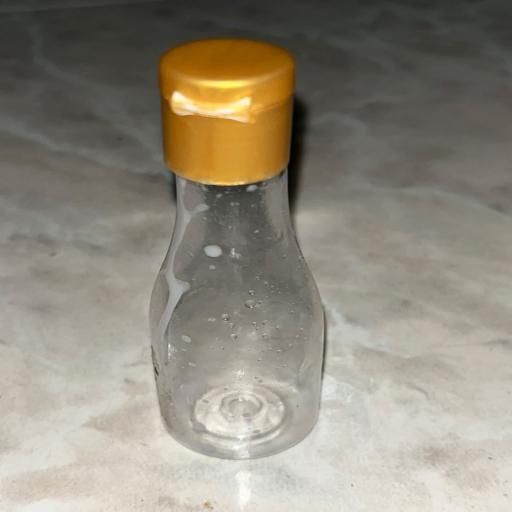PET: (80, 36, 448, 466)
